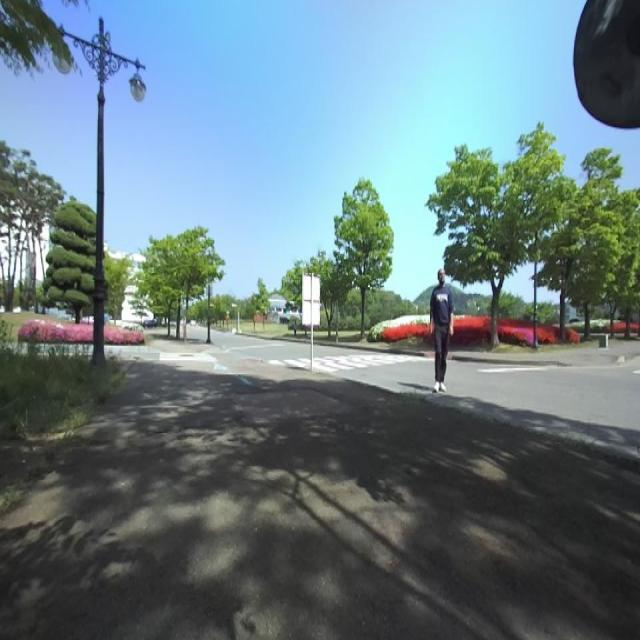sidewalk: (0, 362, 640, 639)
